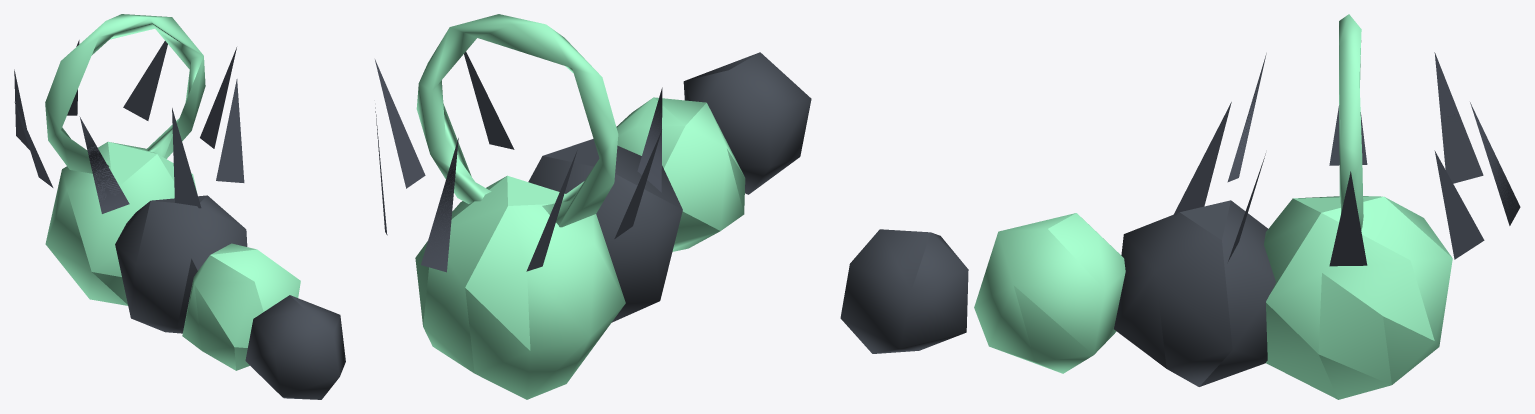
File: SM_Boss_Nerobahn_LOD3.fbx
3 renders of one model, left to right at view 1: azimuth 30°, elevation 25°; view 2: azimuth 150°, elevation 25°; view 3: azimuth 270°, elevation 25°, orthographic. The views are drawn at different scales.
Visible parts, largest first — view 1: SM_Boss_Nerobahn_LOD3; view 2: SM_Boss_Nerobahn_LOD3; view 3: SM_Boss_Nerobahn_LOD3.
Boxes of the visible parts, <box> form: SM_Boss_Nerobahn_LOD3: <box>14,14,345,399</box>; SM_Boss_Nerobahn_LOD3: <box>375,14,811,399</box>; SM_Boss_Nerobahn_LOD3: <box>840,14,1520,399</box>.
Bounding box in the file's own units: 3.19 × 3.83 × 6.55.
